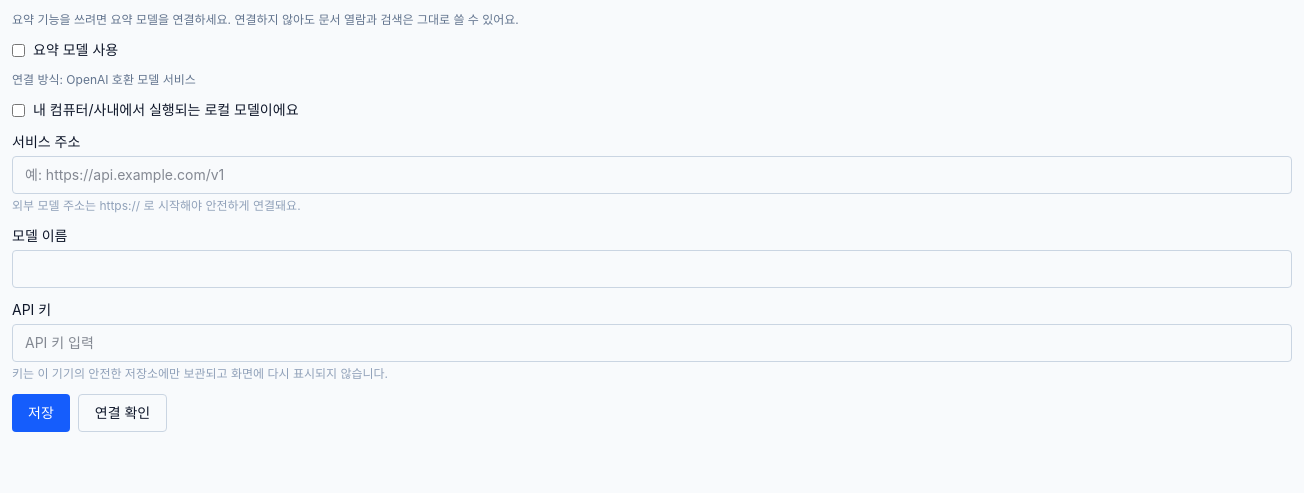
SummaryModelSection › 외부 모델을 켜면 외부 전송 경고를 보여준다
The image size is (1304, 493).
Expected: the text "요약 모델 사용" is shown, top-left (12, 41), bottom-right (118, 58)
Click the checkbox labelled "요약 모델 사용". click: [18, 50]
box: top-left (12, 44), bottom-right (25, 56)
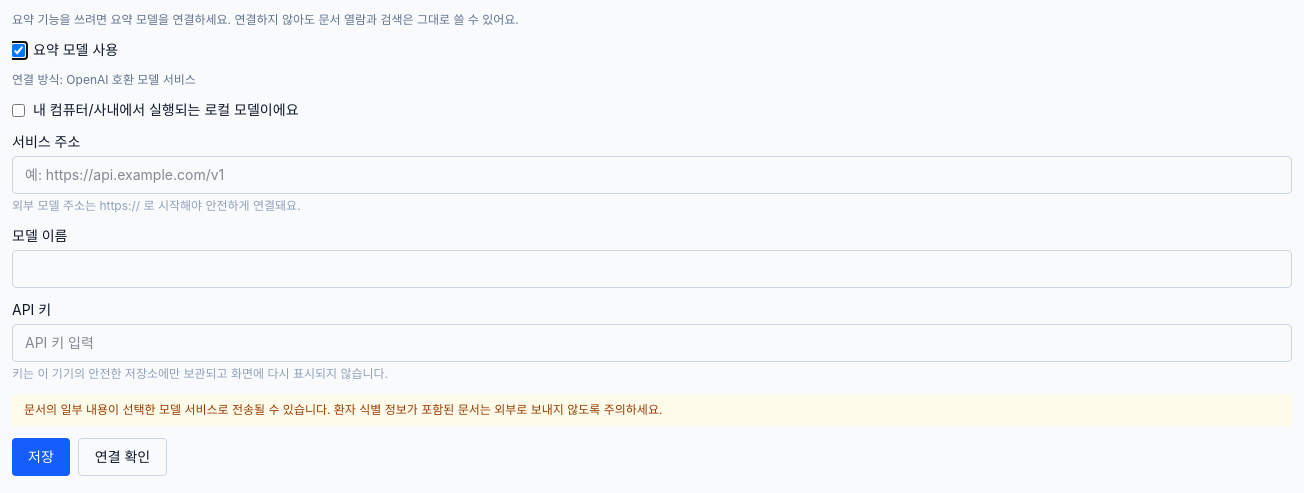
Now the text "문서의 일부 내용이 선택한 모델 서비스로 전송될 수 있습니다" is shown, box top-left (24, 402), bottom-right (662, 417)
